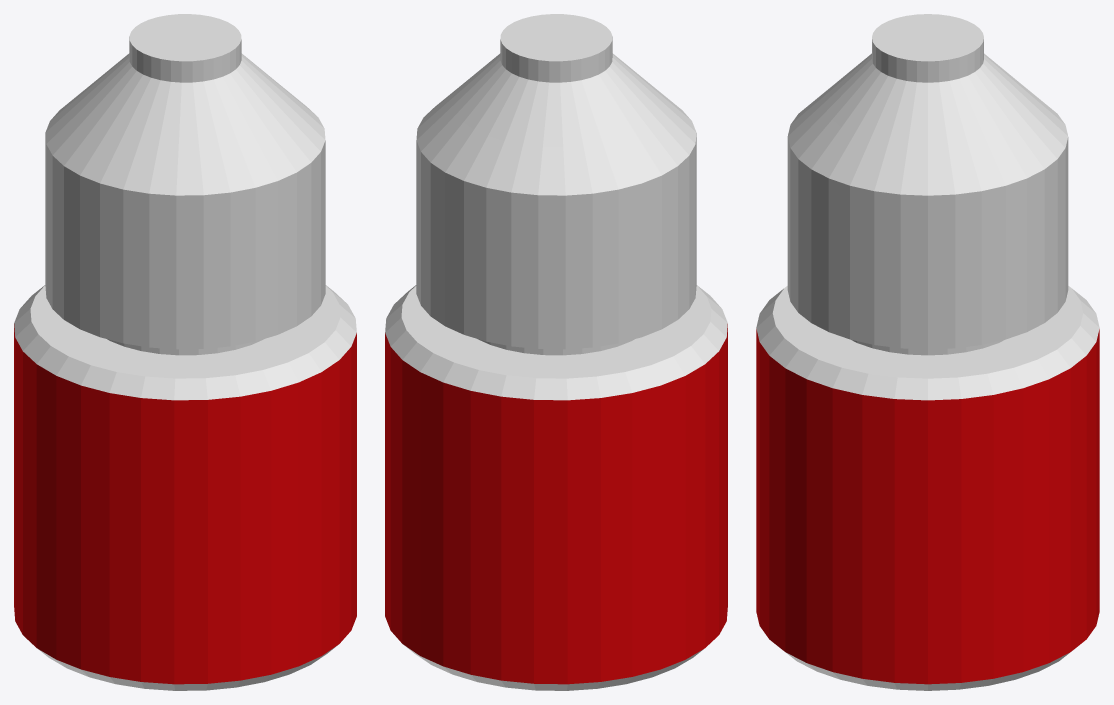
Rendered from FoodColoring.fbx.
The picture shows the model from 3 angles, left to right: view 1: azimuth 30°, elevation 25°; view 2: azimuth 150°, elevation 25°; view 3: azimuth 270°, elevation 25°; orthographic projection.
Parts seen in each view (by area): view 1: Cylinder; view 2: Cylinder; view 3: Cylinder.
Part boxes in pixels (x1,y1,x2,y2): Cylinder: [14, 14, 356, 690]; Cylinder: [385, 14, 727, 690]; Cylinder: [756, 14, 1099, 690].
Bounding box in the file's own units: 200 × 377 × 200.
